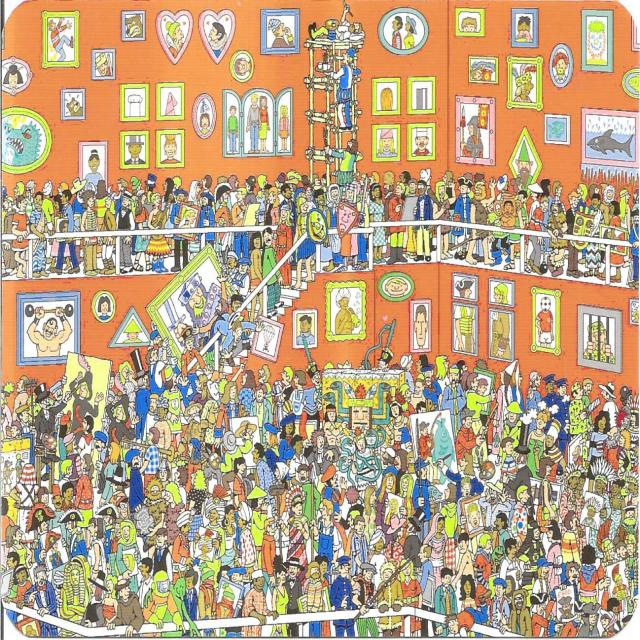waldo: (114, 494, 129, 518)
